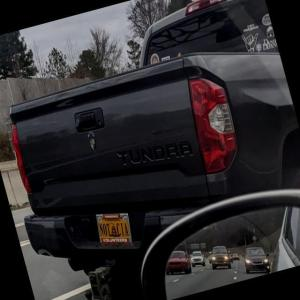Plate: (96, 213, 132, 243)
